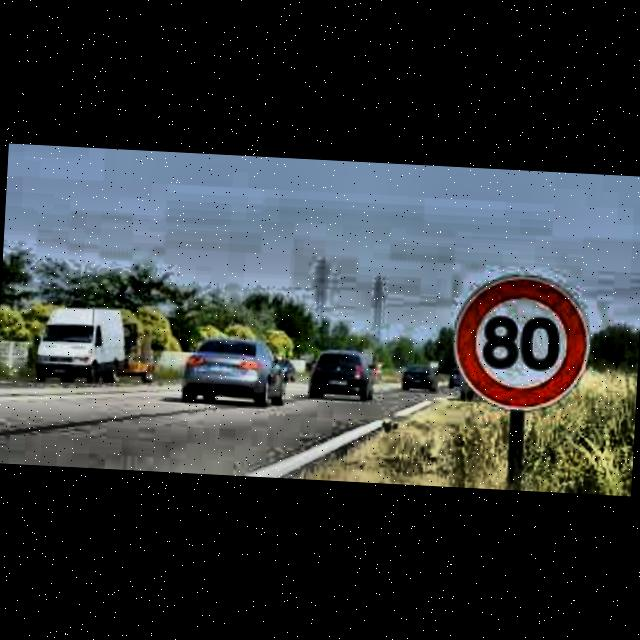speed_80: (451, 269, 594, 412)
